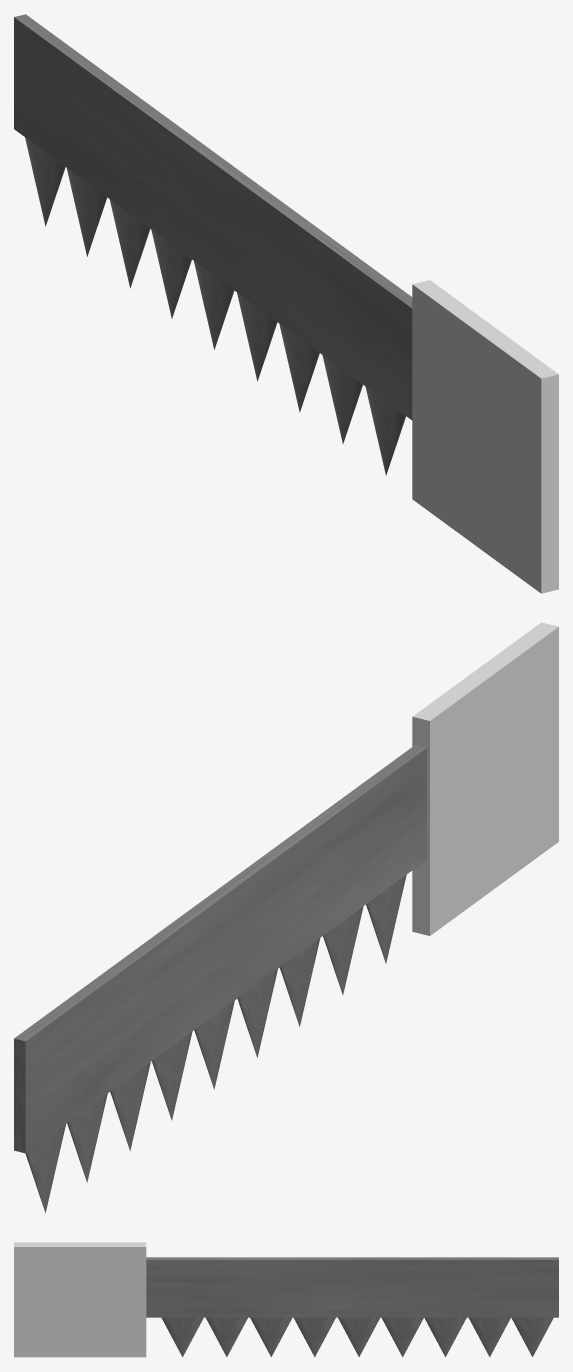
File: Saw.fbx
3 views of the same model, one above another, from view 1: azimuth 30°, elevation 25°; view 2: azimuth 150°, elevation 25°; view 3: azimuth 270°, elevation 25° (orthographic). The views are drawn at different scales.
Visible parts, largest first — view 1: Cube, Cube.001, Cone.007, Cone.006, Cone.008, Cone.005, Cone.001, Cone.002, Cone, Cone.003, Cone.004; view 2: Cube, Cube.001, Cone.004, Cone.001, Cone.003, Cone, Cone.002, Cone.006, Cone.008, Cone.005, Cone.007; view 3: Cube, Cube.001, Cone, Cone.006, Cone.008, Cone.001, Cone.002, Cone.003, Cone.007, Cone.004, Cone.005.
Part boxes in pixels (bbox=[...]): Cube: bbox=[14, 14, 412, 420]; Cube.001: bbox=[412, 280, 558, 593]; Cone.007: bbox=[66, 168, 107, 256]; Cone.006: bbox=[109, 199, 150, 288]; Cone.008: bbox=[25, 137, 65, 226]; Cone.005: bbox=[151, 230, 191, 318]; Cone.001: bbox=[322, 355, 362, 443]; Cone.002: bbox=[279, 323, 319, 412]; Cone: bbox=[365, 386, 405, 475]; Cone.003: bbox=[237, 292, 277, 381]; Cone.004: bbox=[194, 261, 234, 349]; Cube: bbox=[14, 745, 426, 1153]; Cube.001: bbox=[412, 622, 558, 935]; Cone.004: bbox=[194, 1000, 234, 1089]; Cone.001: bbox=[323, 906, 363, 994]; Cone.003: bbox=[237, 969, 277, 1057]; Cone: bbox=[366, 875, 406, 963]; Cone.002: bbox=[279, 938, 320, 1026]; Cone.006: bbox=[110, 1062, 150, 1150]; Cone.008: bbox=[25, 1124, 65, 1212]; Cone.005: bbox=[152, 1031, 192, 1120]; Cone.007: bbox=[67, 1094, 107, 1182]; Cube: bbox=[146, 1257, 558, 1317]; Cube.001: bbox=[14, 1242, 146, 1357]; Cone: bbox=[161, 1317, 203, 1357]; Cone.006: bbox=[424, 1317, 466, 1356]; Cone.008: bbox=[511, 1317, 553, 1356]; Cone.001: bbox=[206, 1317, 247, 1356]; Cone.002: bbox=[250, 1317, 291, 1357]; Cone.003: bbox=[294, 1317, 335, 1357]; Cone.007: bbox=[469, 1317, 510, 1356]; Cone.004: bbox=[338, 1317, 379, 1356]; Cone.005: bbox=[382, 1317, 423, 1356].
Bounding box in the file's own units: 1.16 × 13.83 × 60.5.
Materials: 11 (10 with a texture image).
